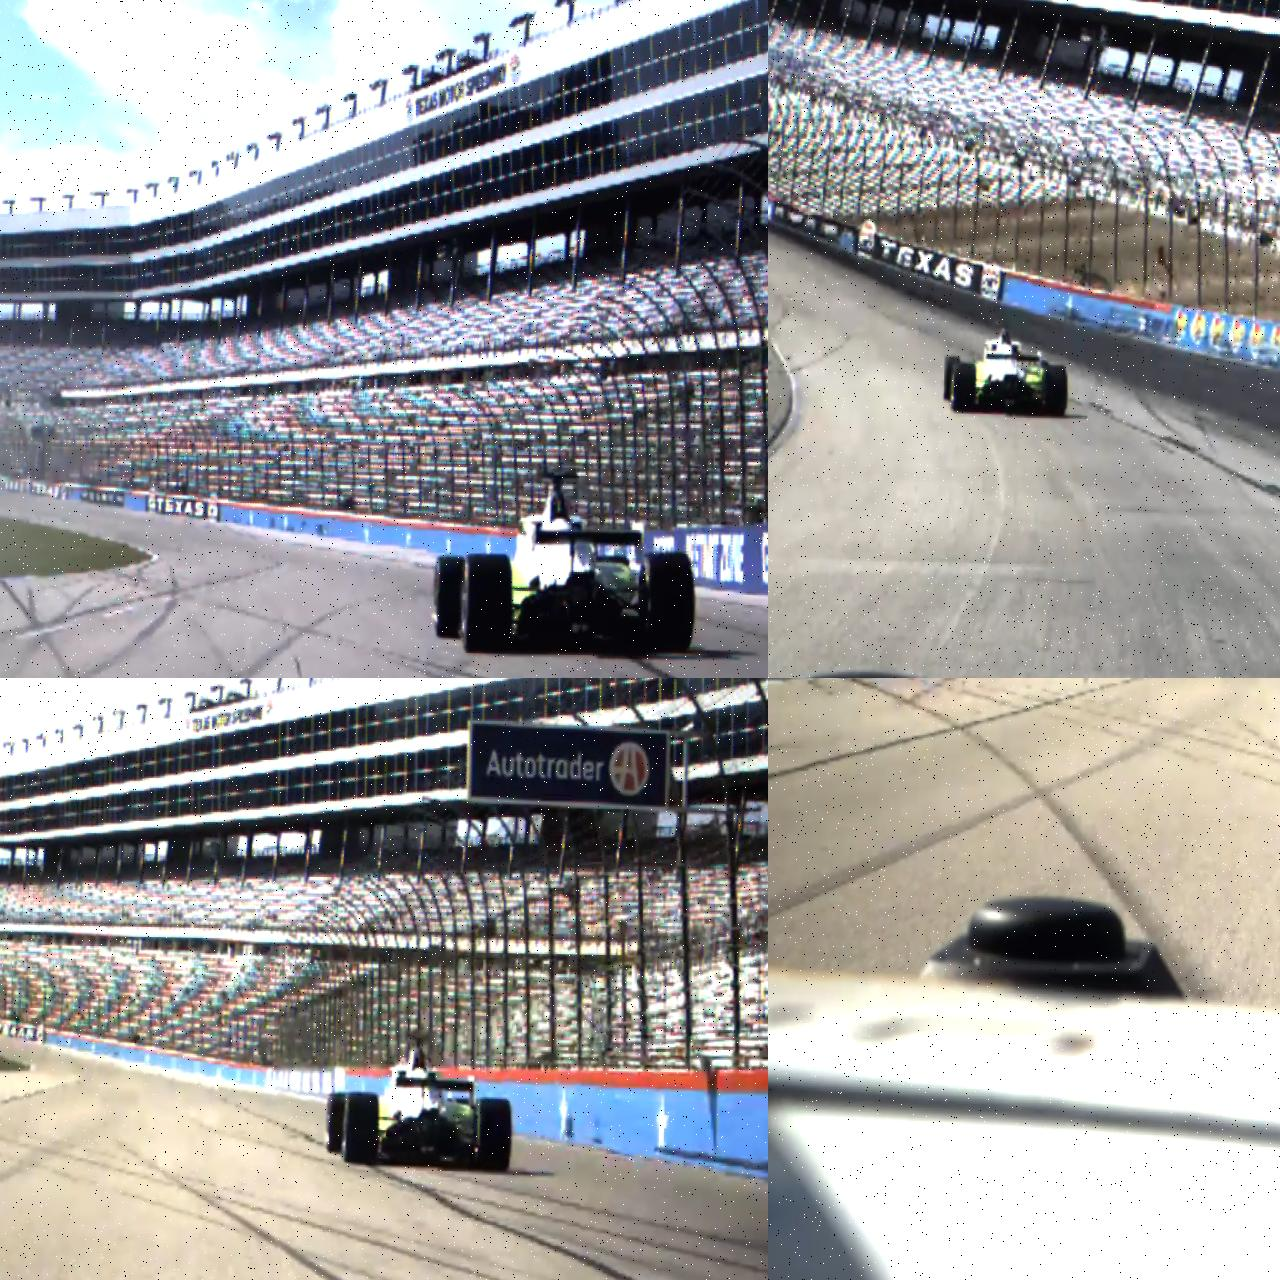AV: (433, 467, 697, 660), (325, 1030, 515, 1172), (942, 320, 1069, 418)
Wheel: (642, 552, 696, 653), (462, 553, 513, 655), (434, 556, 470, 640), (476, 1097, 512, 1172), (342, 1091, 379, 1165), (326, 1092, 352, 1152), (951, 362, 978, 414), (1046, 365, 1068, 418), (944, 356, 961, 400)
